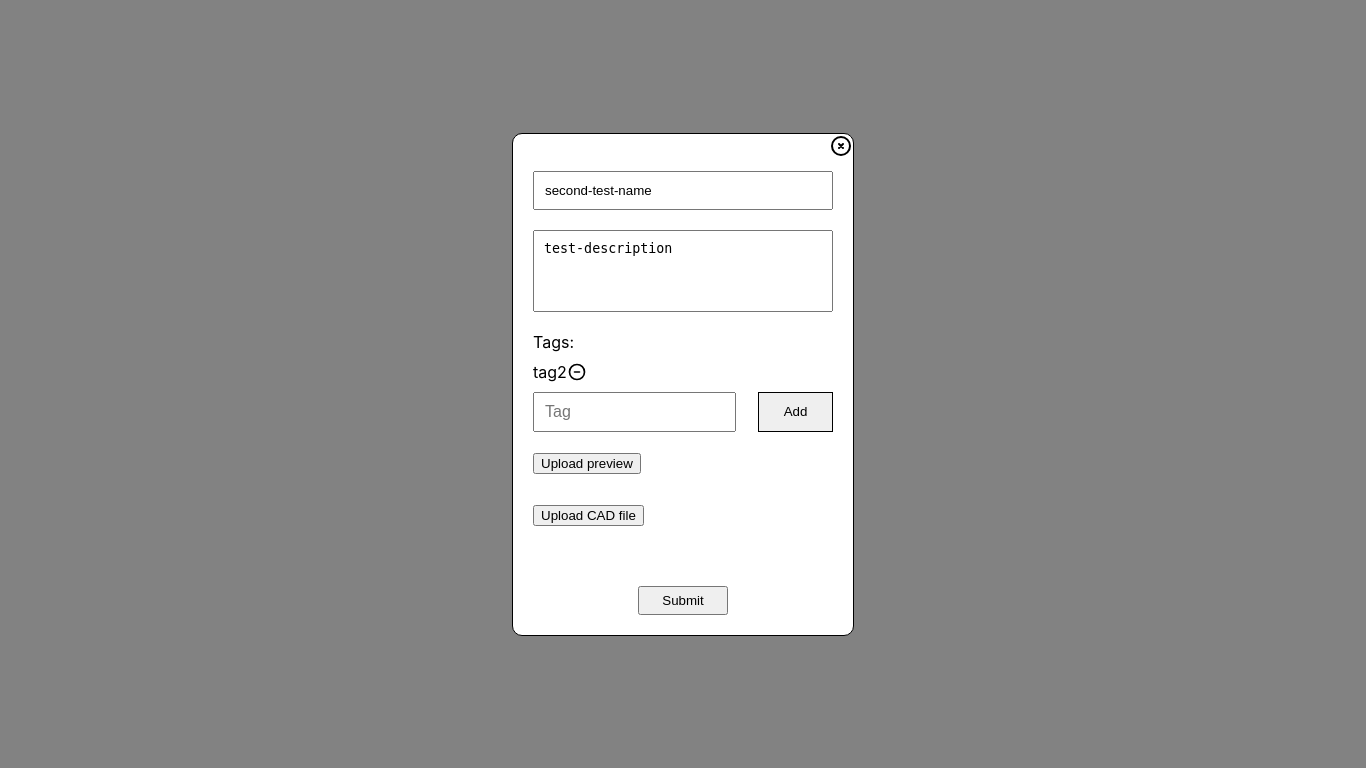
Test: autosuggest tags functionality › tag length error should be displayed in form
Type "length is more than 15 characters" into the field with placeholder "Tag" at coordinates (634, 412), box [533,392,736,432]
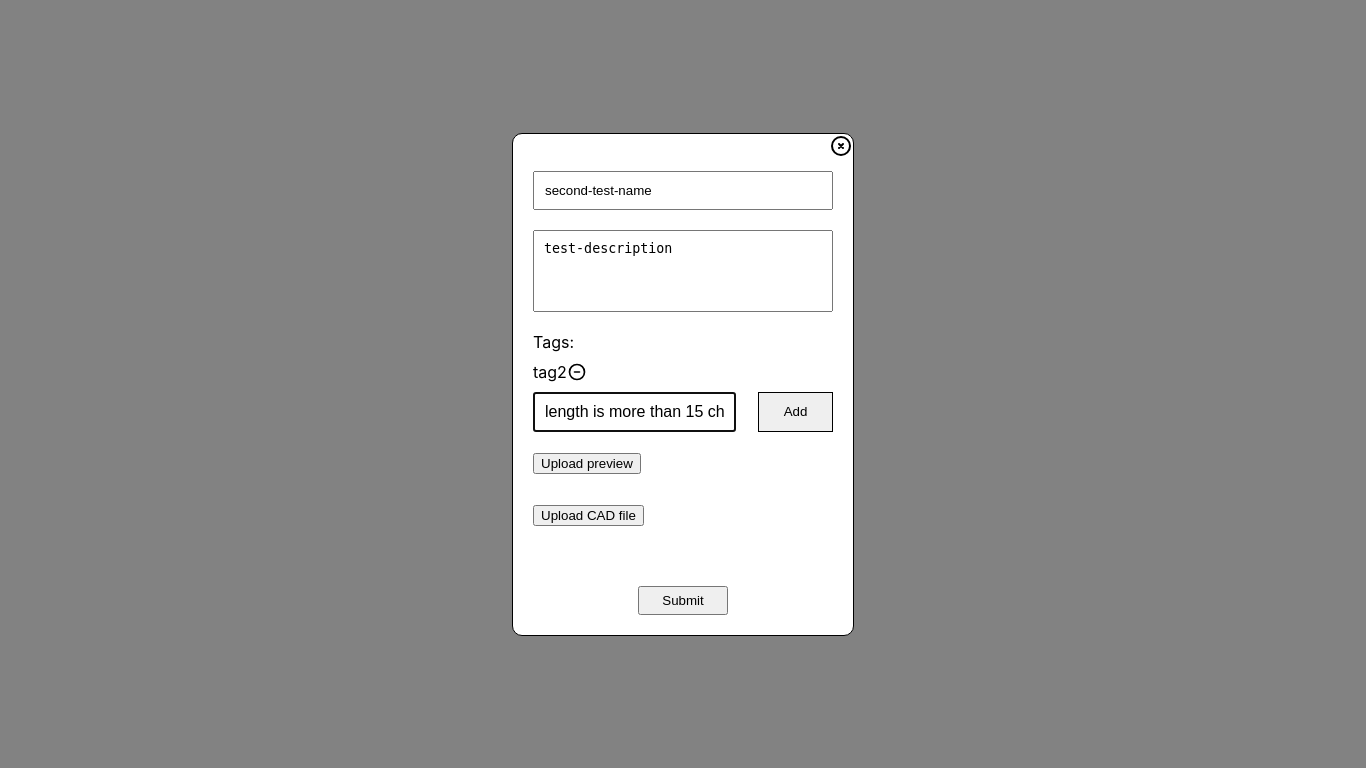
Click the button "Add" at coordinates (796, 412), box [758,392,833,432]
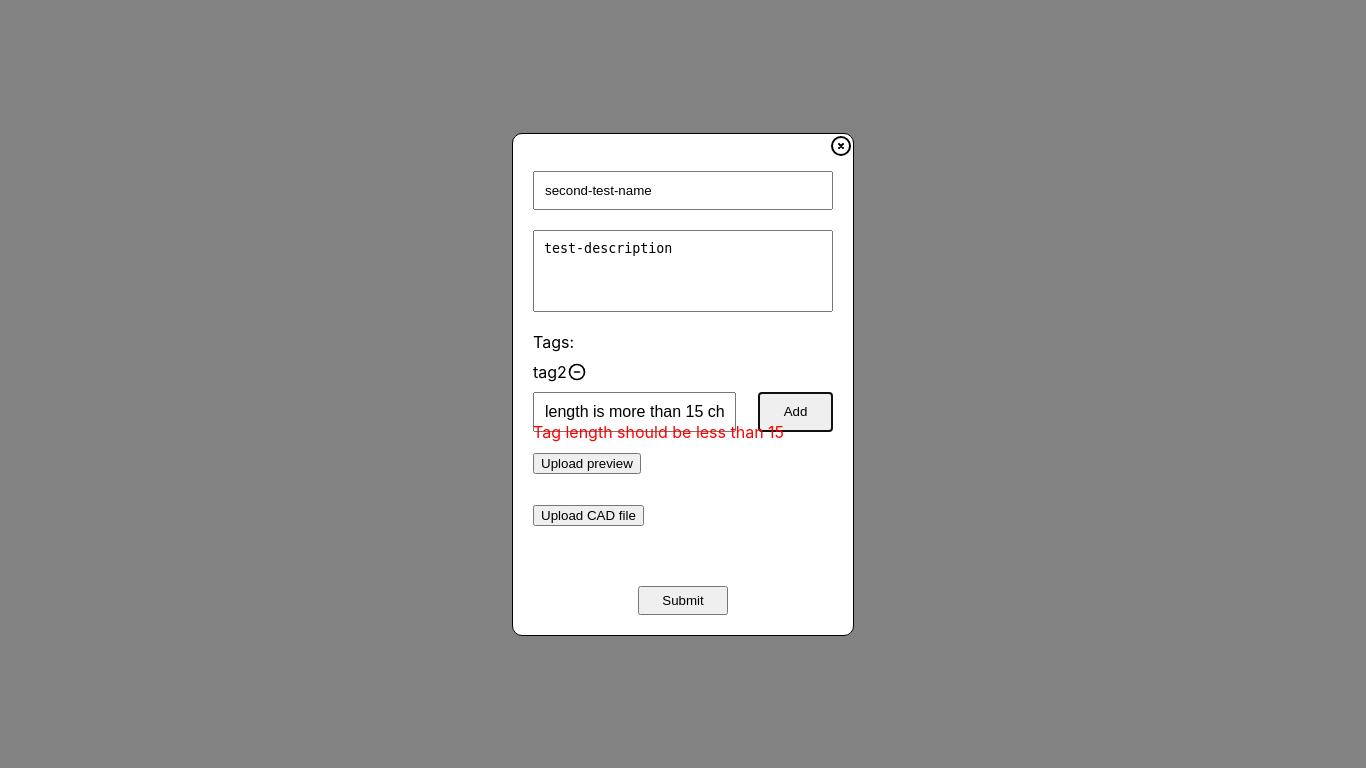
expect the text "Tag length should be less than 15" is shown: met, box [533,422,784,442]
